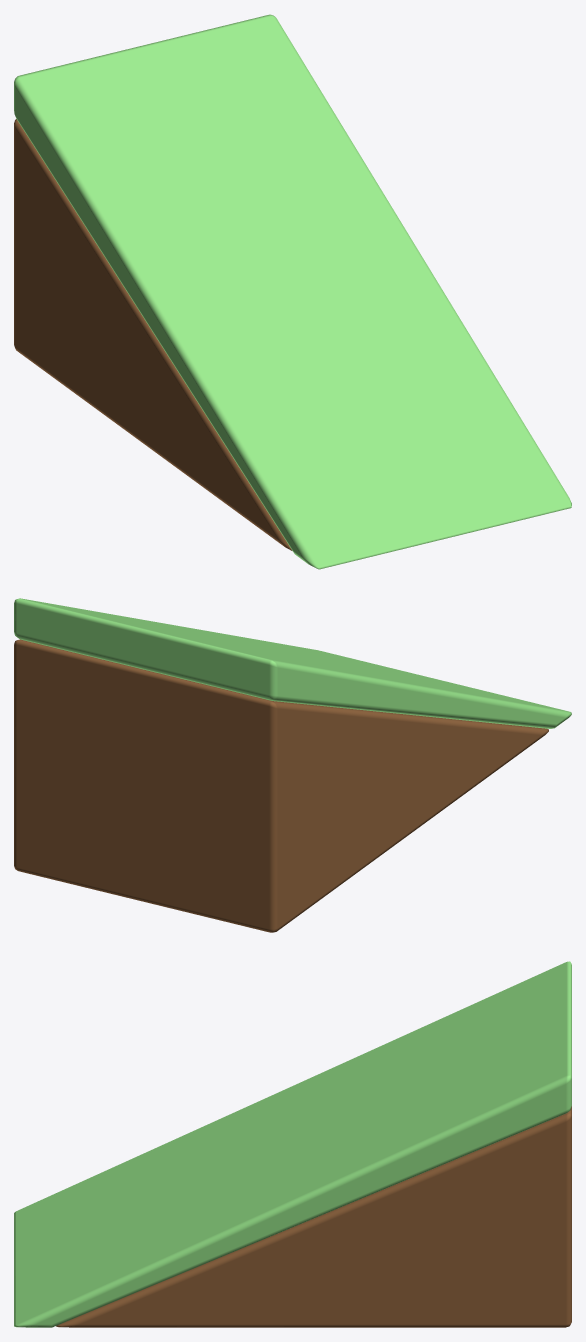
File: Ramp - 1x2.glb
The picture shows the model from 3 angles, top to bottom: view 1: azimuth 30°, elevation 25°; view 2: azimuth 150°, elevation 25°; view 3: azimuth 270°, elevation 25°; orthographic projection. The views are drawn at different scales.
Visible parts, largest first — view 1: Ramp 1x2; view 2: Ramp 1x2; view 3: Ramp 1x2.
Boxes of the visible parts, x1,y1,x2,y2 form: Ramp 1x2: (14,14,571,569); Ramp 1x2: (14,598,571,932); Ramp 1x2: (14,961,571,1327).
Bounding box in the file's own units: 2 × 1.98 × 3.98.
